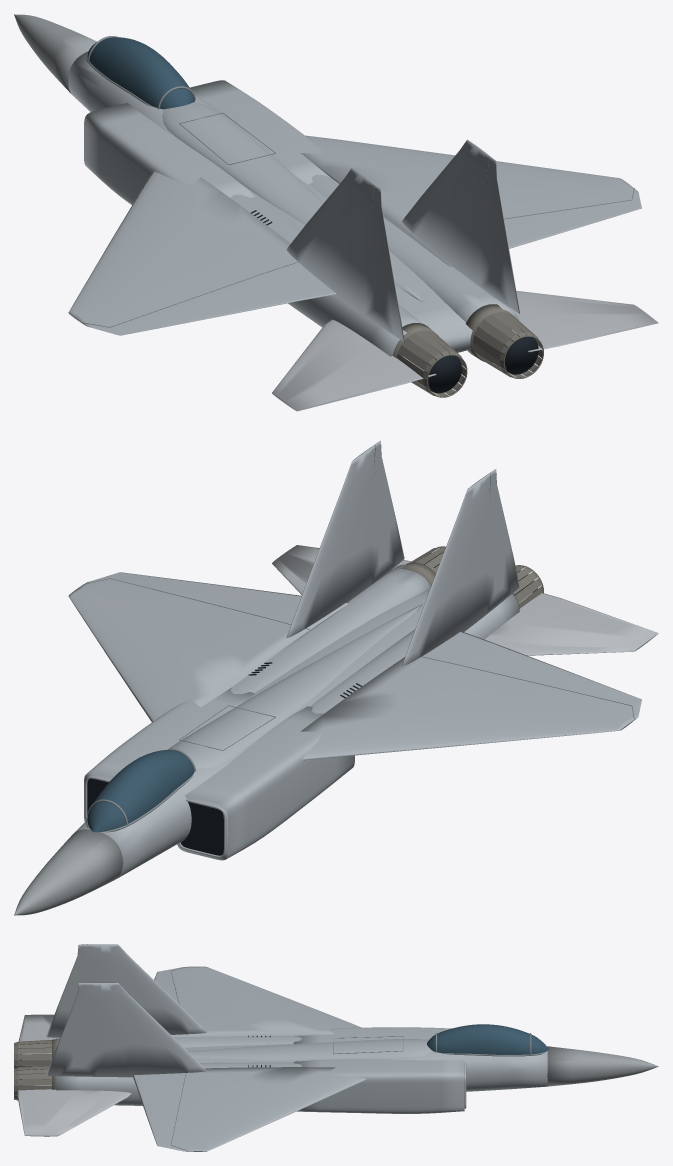
3 renders of one model, top to bottom at view 1: azimuth 30°, elevation 25°; view 2: azimuth 150°, elevation 25°; view 3: azimuth 270°, elevation 25°, orthographic. The views are drawn at different scales.
Visible parts, largest first — view 1: static.airframe | neutral grey, static.control surfaces, static.nozzle titanium, static.tinted canopy, static.dielectric radome, static.deep recess, static.panel seams; view 2: static.airframe | neutral grey, static.control surfaces, static.dielectric radome, static.tinted canopy, static.deep recess, static.nozzle titanium, static.panel seams; view 3: static.airframe | neutral grey, static.control surfaces, static.dielectric radome, static.tinted canopy, static.nozzle titanium, static.panel seams.
Boxes of the visible parts, x1,y1,x2,y2 form: static.airframe | neutral grey: (68, 51, 641, 356); static.control surfaces: (272, 290, 658, 411); static.nozzle titanium: (393, 304, 543, 397); static.tinted canopy: (87, 37, 194, 109); static.dielectric radome: (14, 14, 96, 93); static.deep recess: (251, 210, 538, 393); static.panel seams: (67, 77, 634, 327); static.airframe | neutral grey: (68, 440, 641, 878); static.control surfaces: (85, 545, 658, 857); static.dielectric radome: (14, 829, 122, 915); static.tinted canopy: (87, 750, 194, 832); static.deep recess: (87, 551, 537, 855); static.nozzle titanium: (401, 546, 543, 608); static.panel seams: (83, 445, 634, 867); static.airframe | neutral grey: (46, 944, 547, 1151); static.control surfaces: (17, 1014, 466, 1136); static.dielectric radome: (547, 1046, 658, 1086); static.tinted canopy: (427, 1024, 549, 1054); static.nozzle titanium: (14, 1039, 59, 1100); static.panel seams: (87, 944, 547, 1150).
Size of the model in its own units: 13.11 by 4.24 by 19.41.
